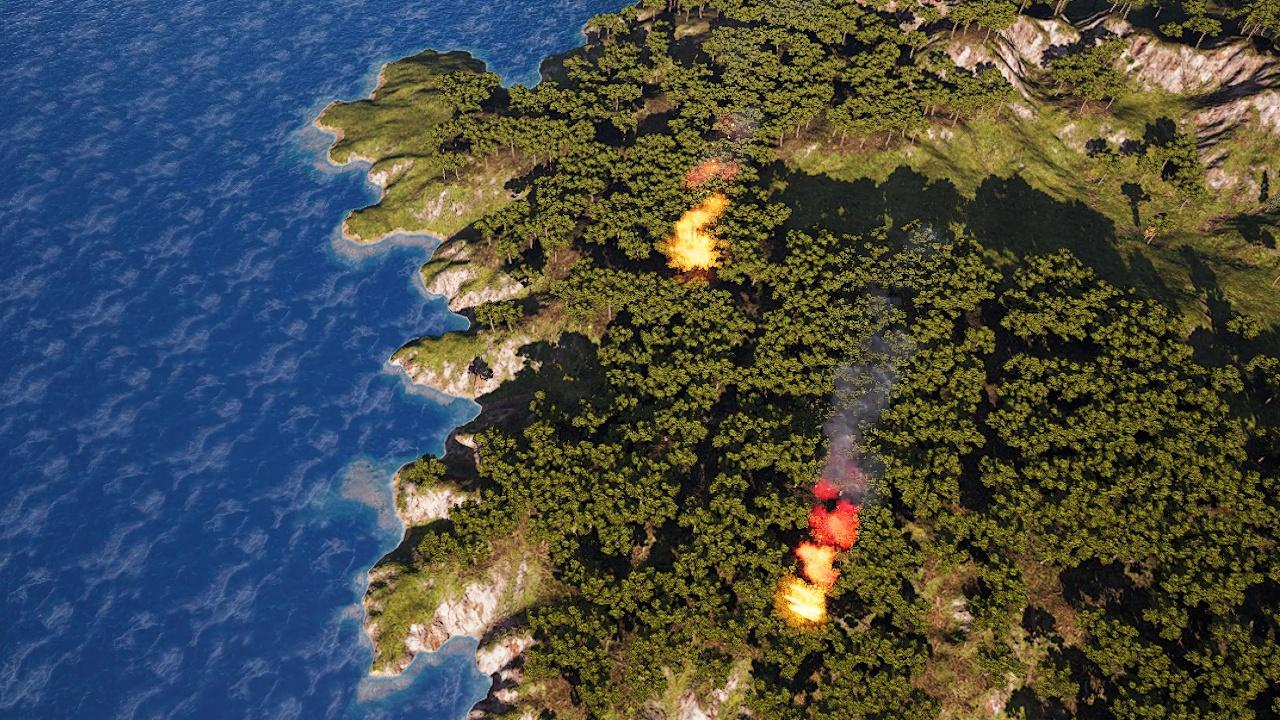fire: (772, 500, 858, 622), (673, 198, 727, 269)
smoke: (796, 287, 916, 560)
